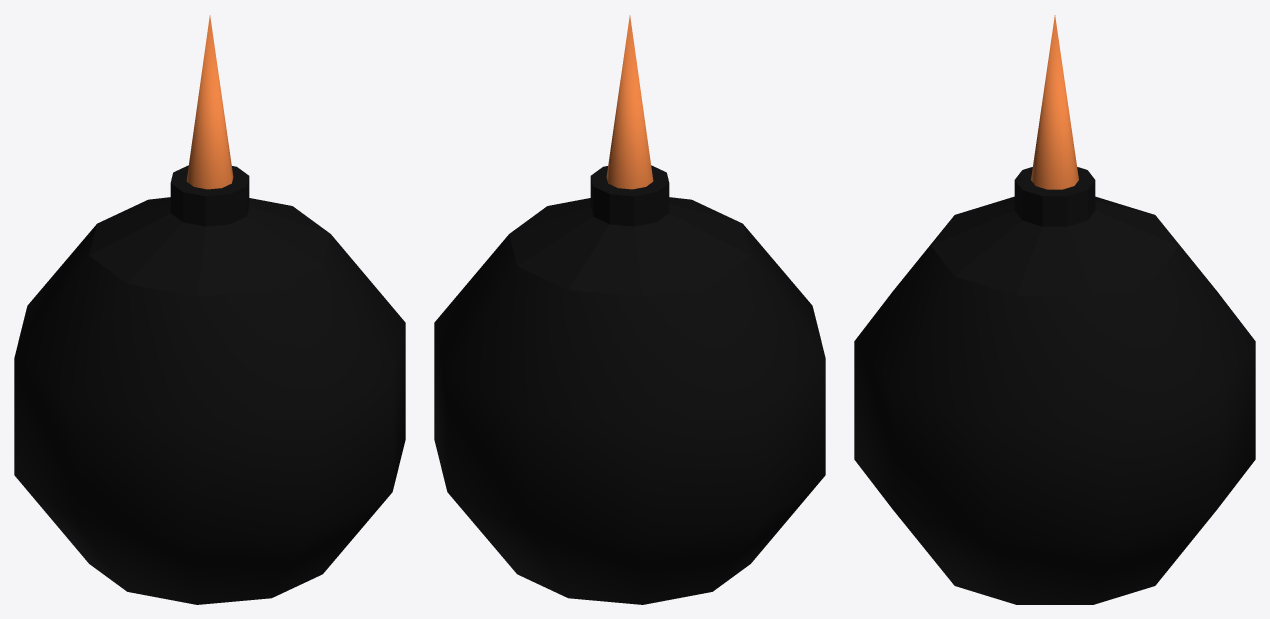
The model's file is Bomb_LowPoly.fbx.
3 views of the same model, side by side, from view 1: azimuth 30°, elevation 25°; view 2: azimuth 150°, elevation 25°; view 3: azimuth 270°, elevation 25° (orthographic).
Visible parts, largest first — view 1: Bomb; view 2: Bomb; view 3: Bomb.
Boxes of the visible parts, bbox=[...] form: Bomb: bbox=[14, 15, 405, 604]; Bomb: bbox=[434, 15, 825, 604]; Bomb: bbox=[854, 15, 1255, 604].
Bounding box in the file's own units: 71.22 × 119 × 74.89.
